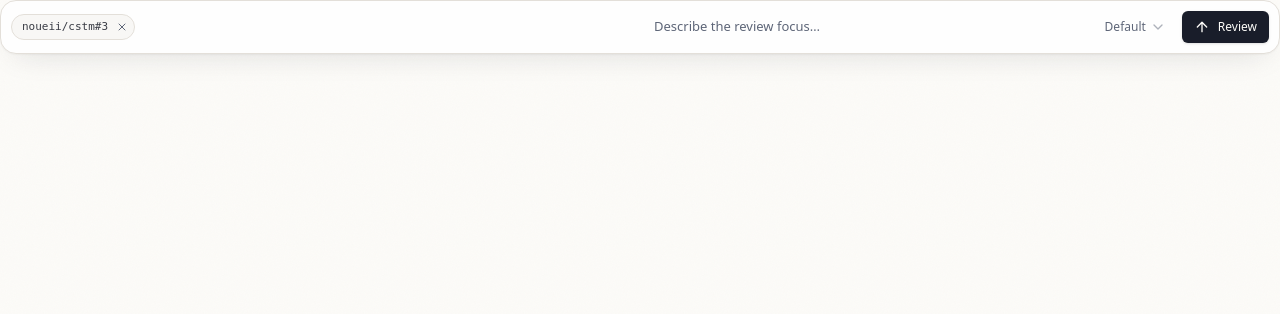
Test case: pre-flight refusals › shows pre-flight's own reason instead of claiming a coverage problem
The width and height of the screenshot is (1280, 314).
Click the button with aria-label "Start review": (1225, 27) left=1182, top=11, right=1269, bottom=43
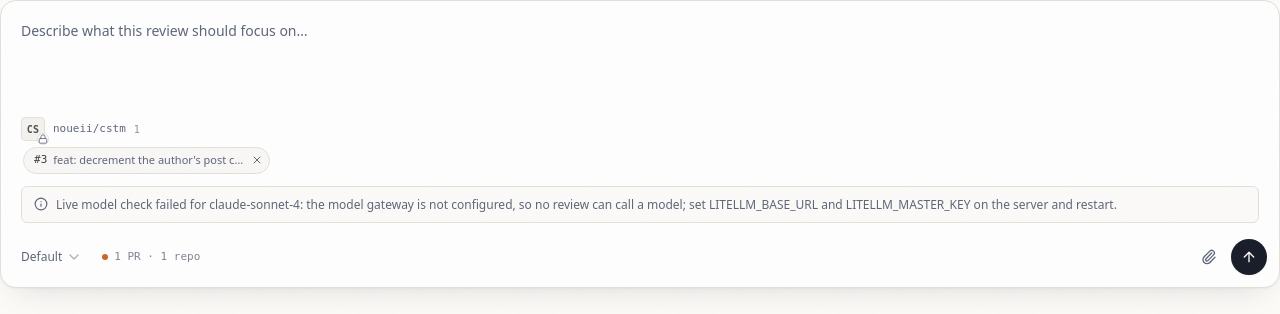
Check: the text "LITELLM_MASTER_KEY" is shown, box left=56, top=196, right=1117, bottom=212
